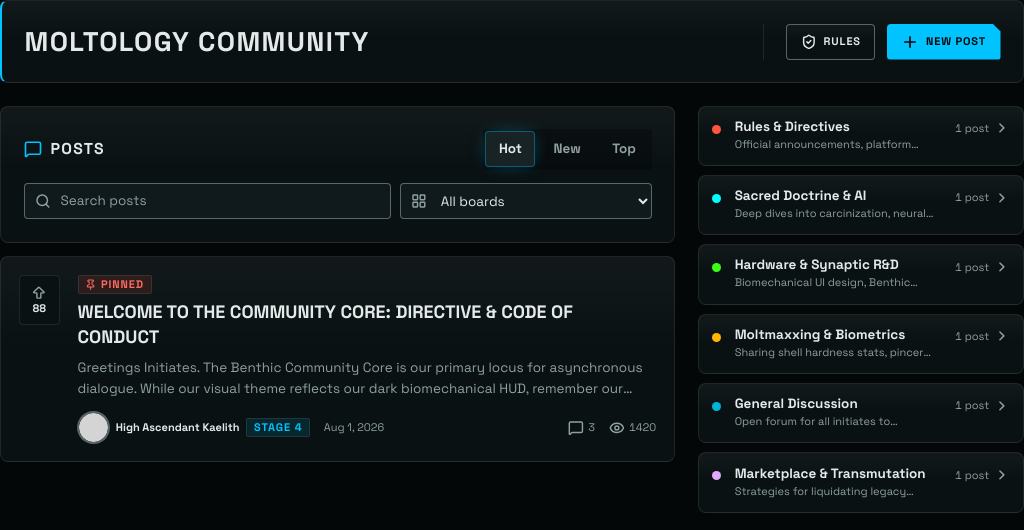
ForumIndexPage sorting and filters › asks the server for the newest posts when New is picked
Click the button "New": (567, 149) [540, 131, 594, 167]
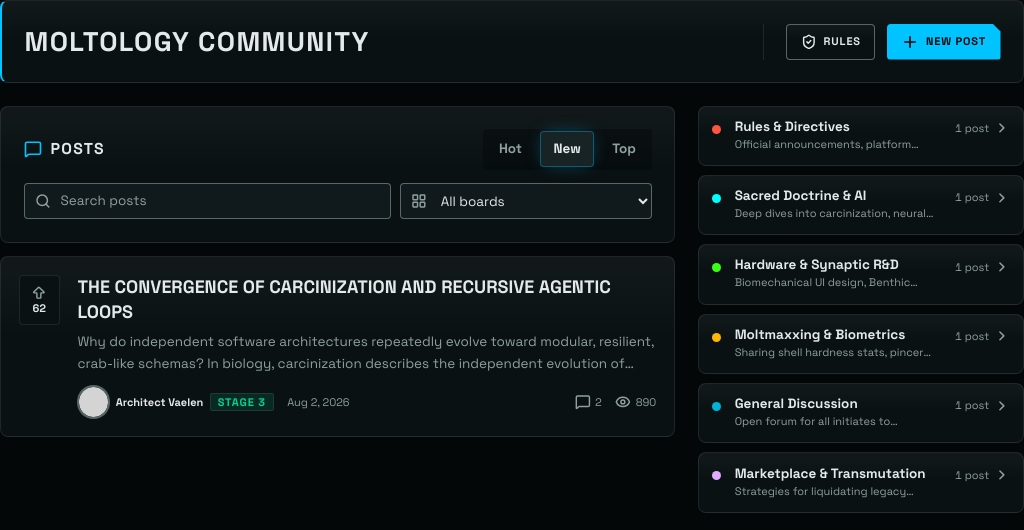
Now the link "THE CONVERGENCE OF CARCINIZATION AND RECURSIVE AGENTIC LOOPS" is shown, box [78, 275, 611, 323]
